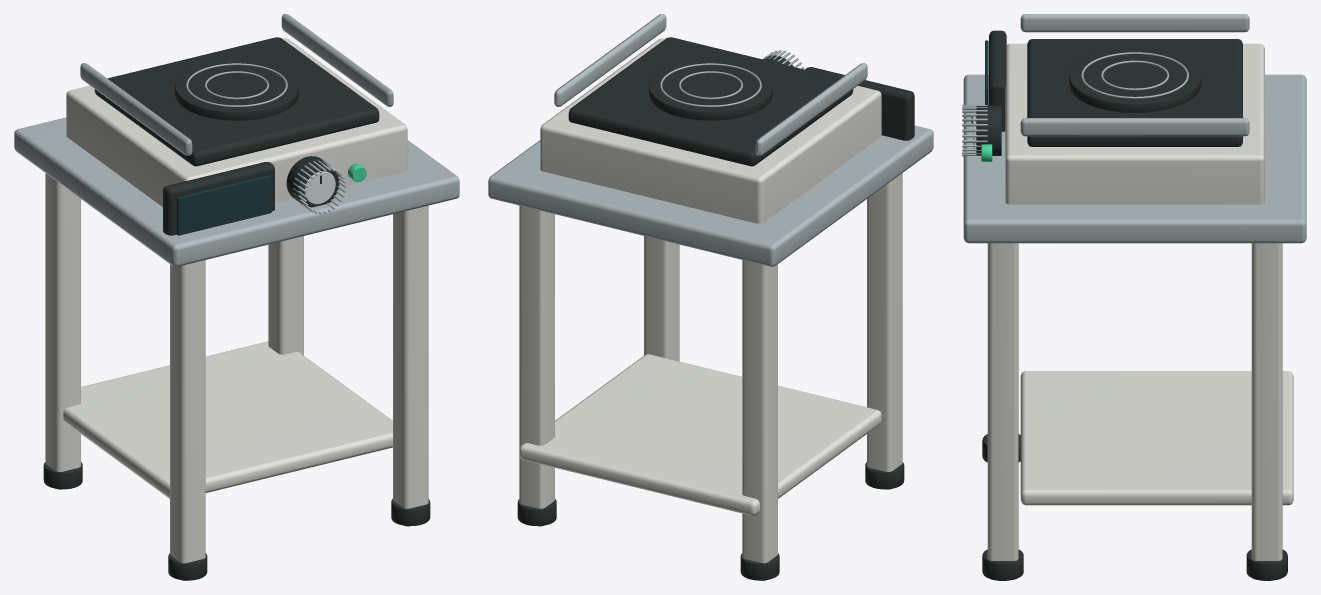
File: hotplate.glb
The picture shows the model from 3 angles, left to right: view 1: azimuth 30°, elevation 25°; view 2: azimuth 150°, elevation 25°; view 3: azimuth 270°, elevation 25°; orthographic projection. The views are drawn at different scales.
Parts seen in each view (by area): view 1: Equipment_hotplate_Ceramic ivory, Equipment_hotplate_Brushed stainless, Equipment_hotplate_Knurled graphite, LCD.007, Knob_main.007, Equipment_hotplate_Machined aluminium; view 2: Equipment_hotplate_Ceramic ivory, Equipment_hotplate_Brushed stainless, Equipment_hotplate_Knurled graphite; view 3: Equipment_hotplate_Ceramic ivory, Equipment_hotplate_Brushed stainless, Equipment_hotplate_Knurled graphite, Knob_main.007.
Boxes of the visible parts, bbox=[...] form: Equipment_hotplate_Ceramic ivory: bbox=[45, 38, 428, 580]; Equipment_hotplate_Brushed stainless: bbox=[14, 14, 459, 266]; Equipment_hotplate_Knurled graphite: bbox=[43, 37, 430, 580]; LCD.007: bbox=[177, 175, 271, 235]; Knob_main.007: bbox=[286, 156, 339, 207]; Equipment_hotplate_Machined aluminium: bbox=[304, 171, 335, 204]; Equipment_hotplate_Ceramic ivory: bbox=[519, 38, 902, 580]; Equipment_hotplate_Brushed stainless: bbox=[488, 14, 933, 266]; Equipment_hotplate_Knurled graphite: bbox=[517, 37, 914, 580]; Equipment_hotplate_Ceramic ivory: bbox=[987, 43, 1293, 579]; Equipment_hotplate_Brushed stainless: bbox=[962, 14, 1306, 243]; Equipment_hotplate_Knurled graphite: bbox=[971, 30, 1287, 580]; Knob_main.007: bbox=[976, 105, 1001, 155].
Size of the model in its own units: 0.8 by 1.13 by 0.783.
